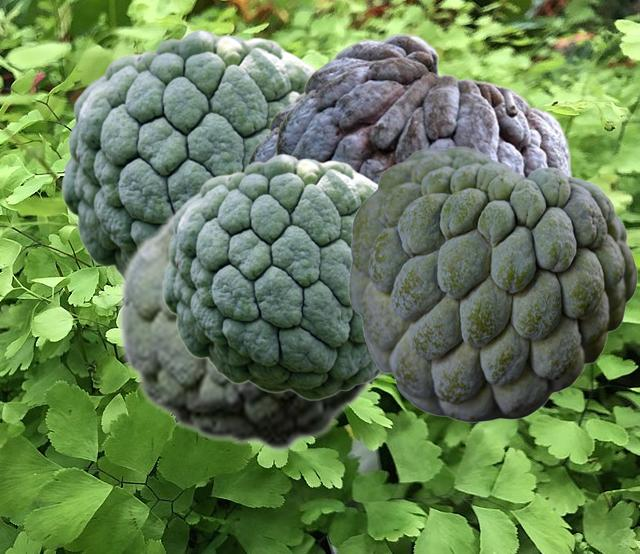atis: (348, 146, 636, 421), (116, 199, 392, 452), (61, 29, 316, 276), (162, 153, 381, 400), (273, 32, 571, 181), (245, 92, 303, 166)
